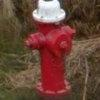Hydrant: (16, 3, 83, 96)
